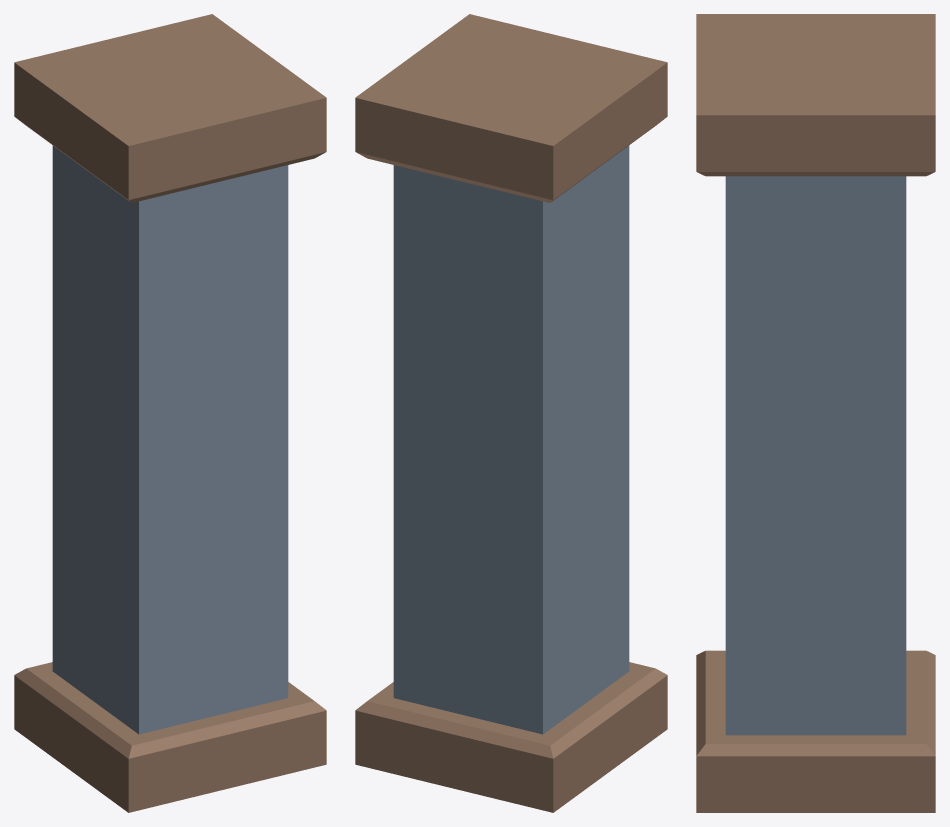
File: Pillar.fbx
3 renders of one model, left to right at view 1: azimuth 30°, elevation 25°; view 2: azimuth 150°, elevation 25°; view 3: azimuth 270°, elevation 25°, orthographic. The views are drawn at different scales.
Parts seen in each view (by area): view 1: Pillar; view 2: Pillar; view 3: Pillar.
Boxes of the visible parts, box(x1,y1,x2,y2) form: Pillar: box(14, 14, 326, 812); Pillar: box(355, 14, 667, 812); Pillar: box(696, 14, 935, 812).
Bounding box in the file's own units: 265 × 853 × 265.
